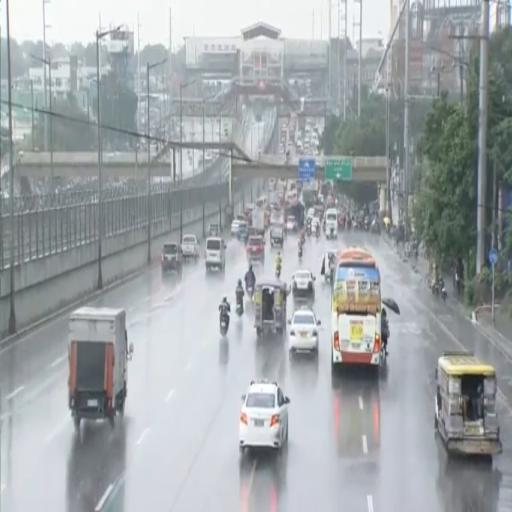bus: (332, 248, 381, 370)
car: (239, 380, 290, 452), (288, 308, 320, 354), (292, 269, 315, 299), (206, 237, 226, 271), (161, 243, 182, 274), (246, 235, 264, 260), (182, 234, 199, 260), (326, 208, 338, 238), (237, 221, 247, 242), (207, 223, 220, 237), (286, 216, 296, 232), (231, 219, 240, 236), (307, 207, 314, 219)
jeepney: (435, 352, 502, 455), (254, 280, 289, 337)
motorcycle: (220, 311, 229, 335), (454, 271, 461, 296), (325, 263, 334, 282), (439, 280, 446, 301), (236, 299, 244, 316), (432, 282, 439, 297), (246, 284, 253, 299), (276, 265, 281, 279), (364, 218, 369, 231), (330, 228, 336, 238), (298, 246, 302, 260), (307, 224, 311, 236), (316, 226, 320, 238)
truck: (68, 307, 133, 429), (252, 207, 264, 235)
